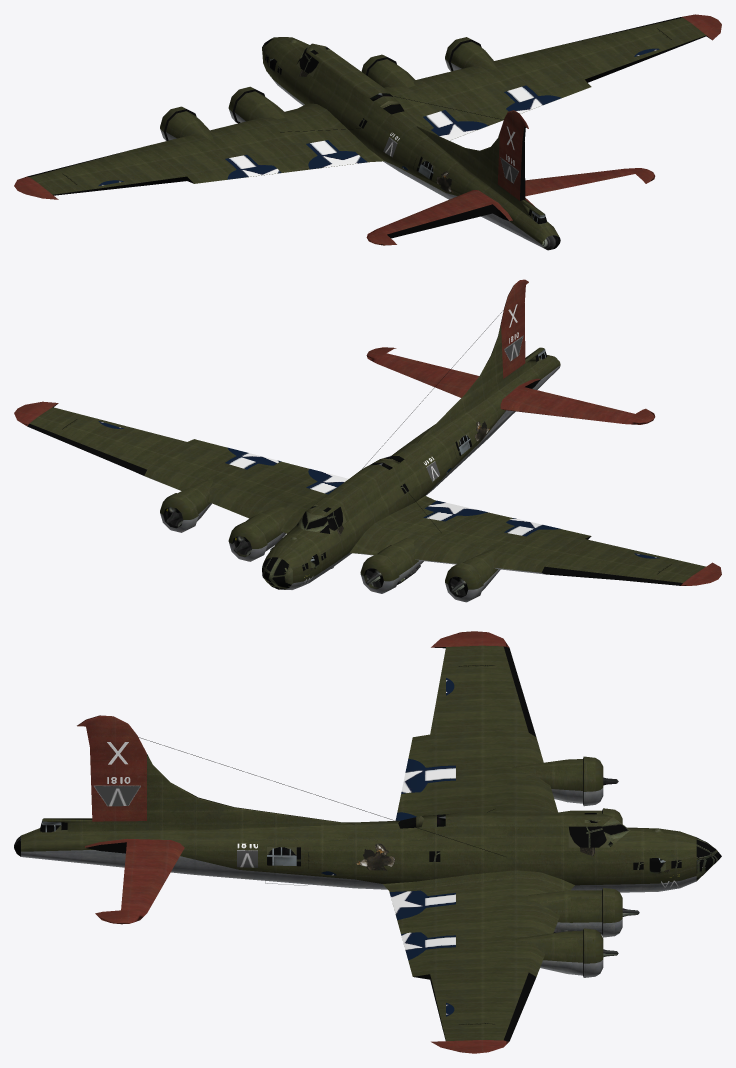
The picture shows the model from 3 angles, top to bottom: view 1: azimuth 30°, elevation 25°; view 2: azimuth 150°, elevation 25°; view 3: azimuth 270°, elevation 25°; orthographic projection. The views are drawn at different scales.
Visible parts, largest first — view 1: b17; view 2: b17; view 3: b17.
Part boxes in pixels (x1,y1,x2,y2): b17: (14, 14, 721, 250); b17: (14, 279, 721, 602); b17: (14, 631, 721, 1053).
Bounding box in the file's own units: 31.9 × 6.54 × 22.59.
9 materials, 9 textured.
